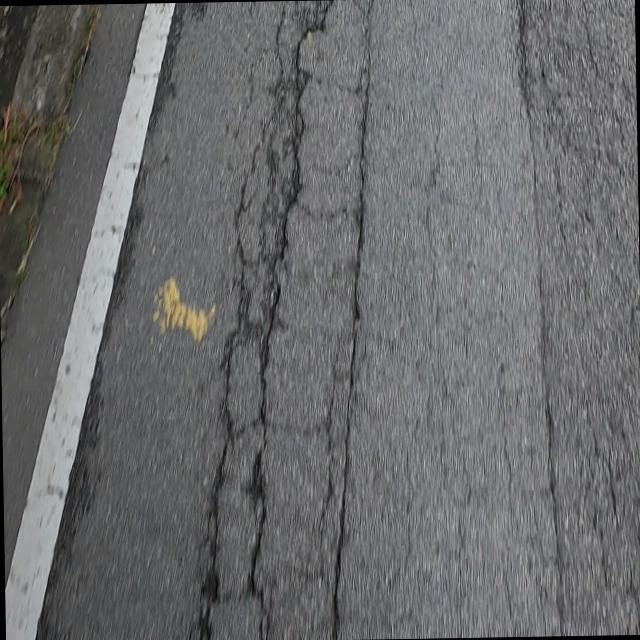Retak-Buaya: (198, 0, 373, 640), (521, 0, 640, 636)
